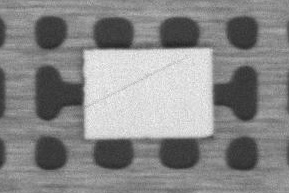DIE_CRACK: (127, 37, 280, 71)
